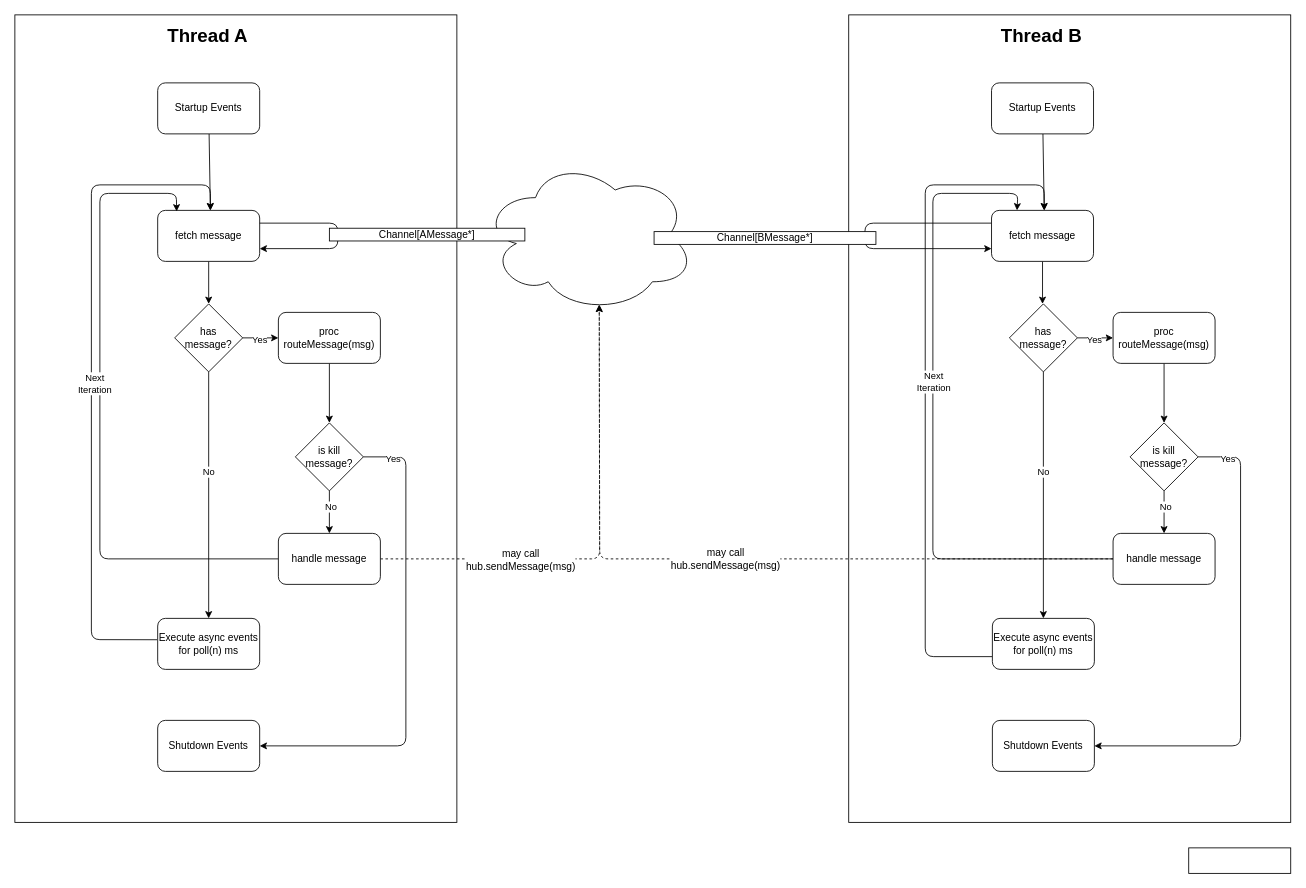
Image size: 1306x888. Some labels were removed from this diagram. Here are the shapes that lost their labels. From the top down, the box of each, then its label:
(482, 159, 695, 312): ChannelHub
(1188, 847, 1291, 873): * : Object variant
